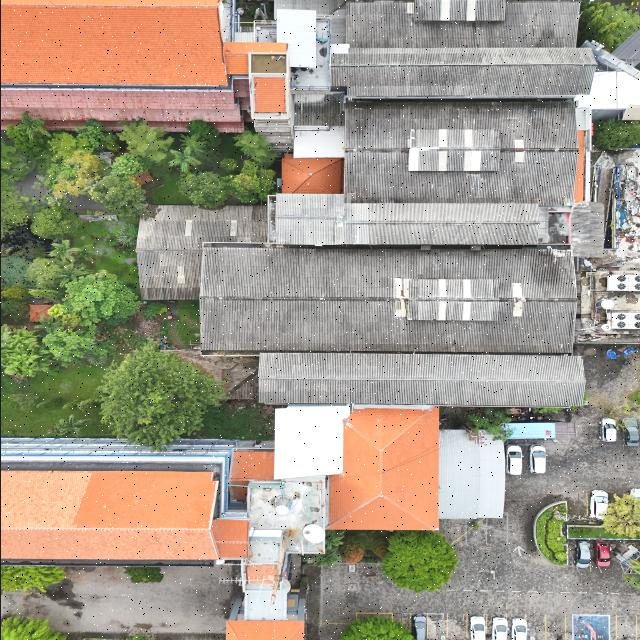Tree: (95, 348, 218, 450), (380, 530, 460, 592), (178, 170, 223, 210), (40, 328, 92, 362), (224, 170, 272, 202)
